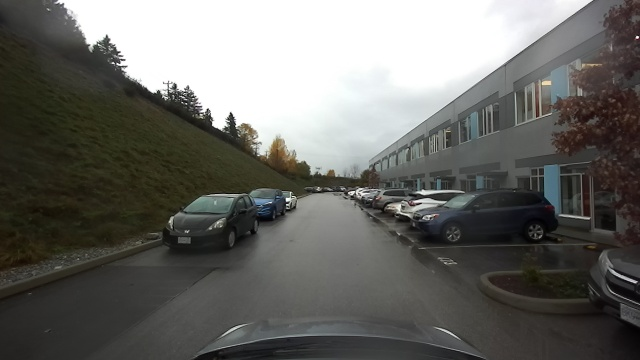car: (411, 188, 561, 244), (160, 189, 260, 254), (582, 237, 640, 333), (252, 185, 298, 217), (373, 186, 406, 222), (347, 188, 361, 202), (361, 195, 371, 206), (307, 185, 322, 191), (323, 186, 332, 192), (336, 185, 345, 191)
